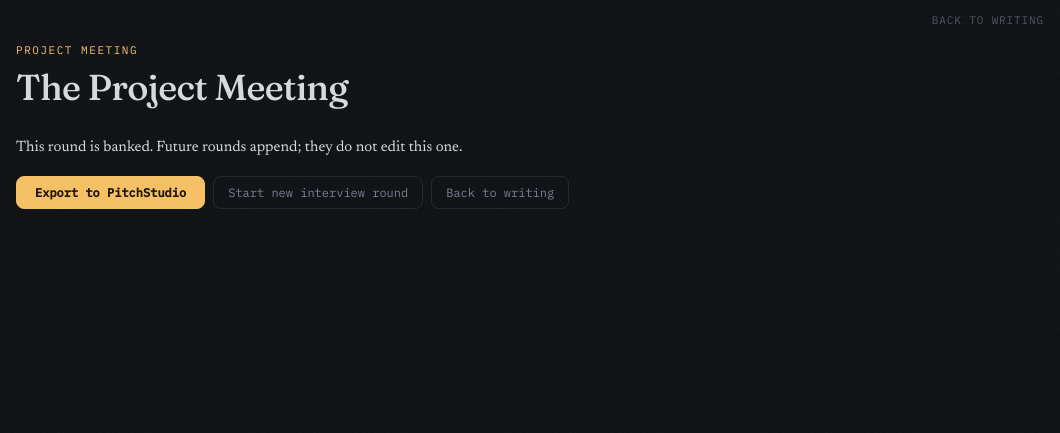
Test: ProjectMeetingPage › lets a writer explicitly leave the latest banked round and start a new one
Click the button "Start new interview round" at (318, 193), box [213,176,423,209]
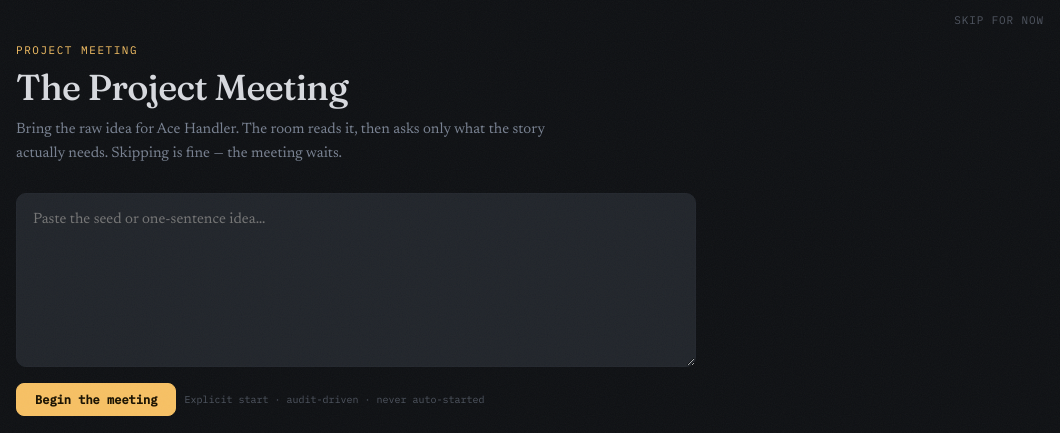
Result: the text box named "Project Meeting seed" is shown at [16,193,696,367]
Result: the button "Begin the meeting" is shown at [16,383,176,416]
